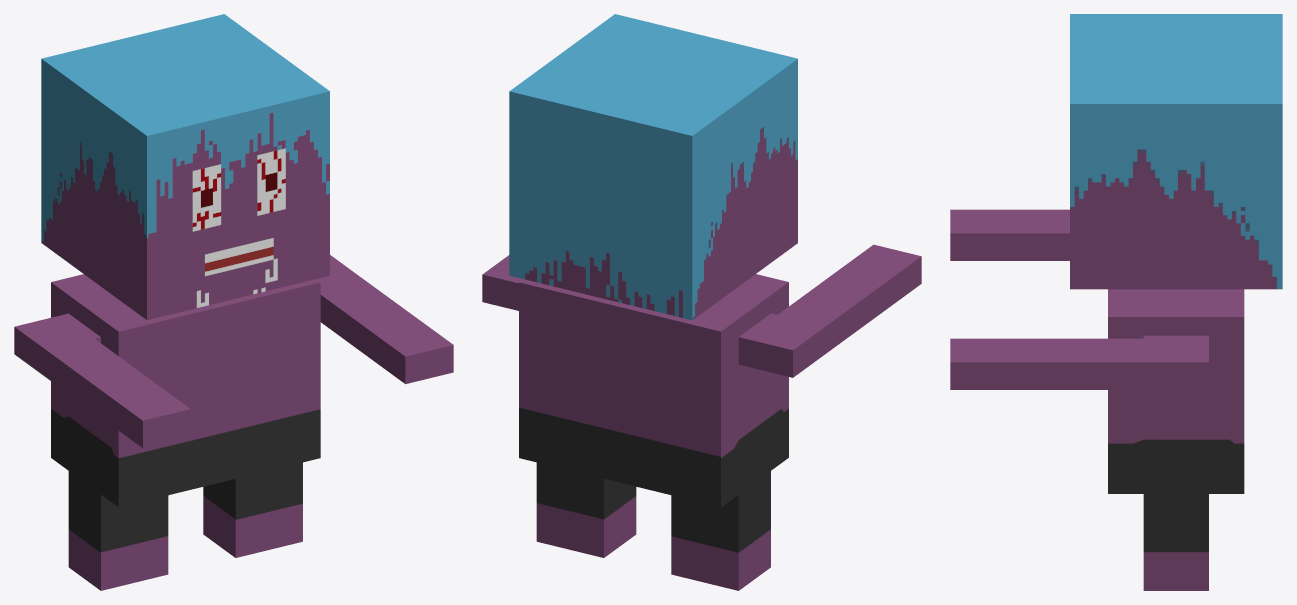
The model's file is ZombieSwimer.fbx.
3 views of the same model, side by side, from view 1: azimuth 30°, elevation 25°; view 2: azimuth 150°, elevation 25°; view 3: azimuth 270°, elevation 25° (orthographic).
Visible parts, largest first — view 1: pCube3; view 2: pCube3; view 3: pCube3.
Part boxes in pixels (bbox=[...]): pCube3: bbox=[14, 14, 453, 590]; pCube3: bbox=[482, 14, 921, 590]; pCube3: bbox=[950, 14, 1282, 590].
Size of the model in its own units: 6.46 by 9.52 by 5.95.
Materials: 1 (1 with a texture image).
